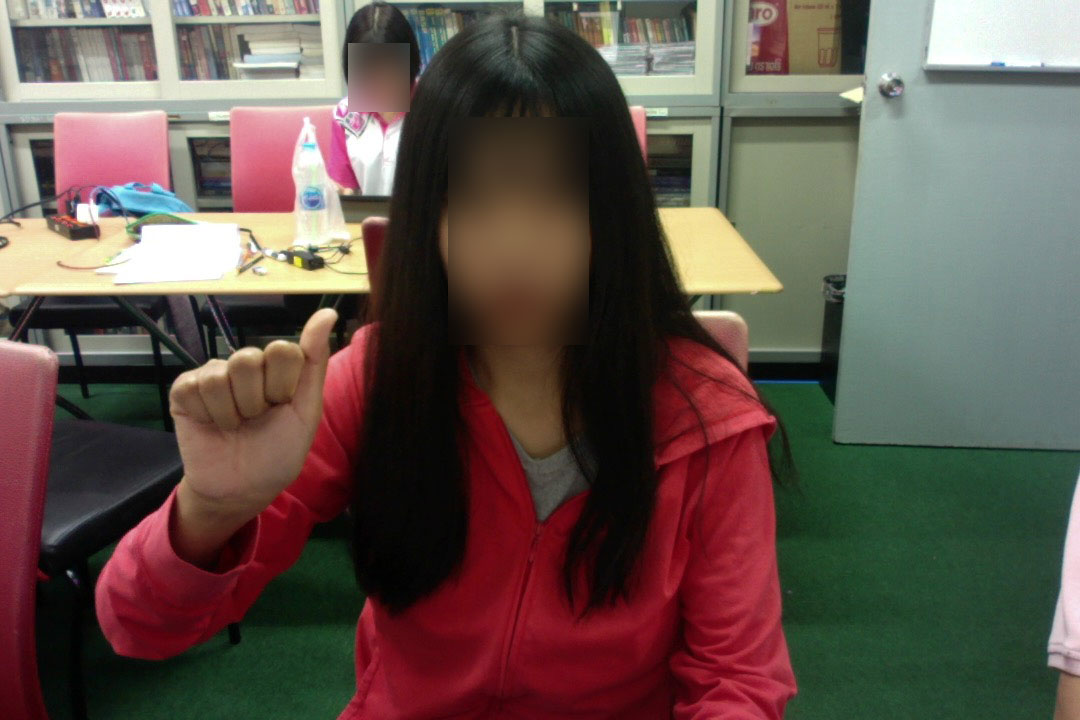or: (162, 300, 352, 526)
